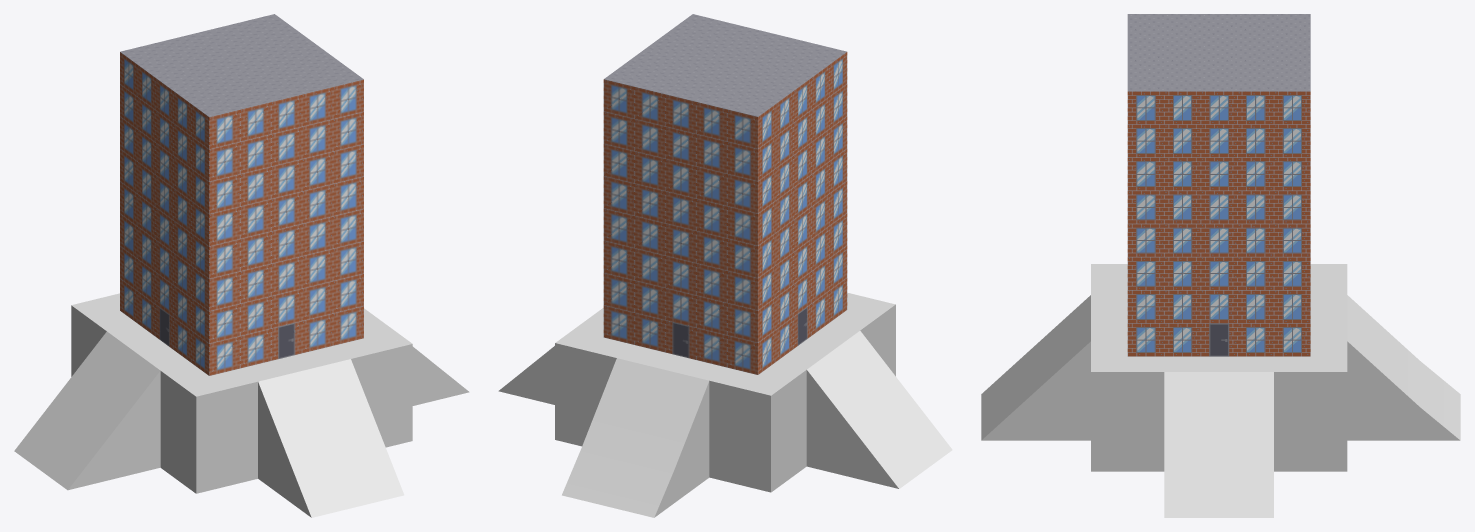
File: House.fbx
3 views of the same model, side by side, from view 1: azimuth 30°, elevation 25°; view 2: azimuth 150°, elevation 25°; view 3: azimuth 270°, elevation 25° (orthographic). The views are drawn at different scales.
Parts seen in each view (by area): view 1: House001, Building_Slops001; view 2: House001, Building_Slops001; view 3: Building_Slops001, House001.
Part boxes in pixels (box(x1,y1,x2,y2)): House001: box(120, 14, 363, 375); Building_Slops001: box(14, 293, 469, 517); House001: box(603, 14, 847, 374); Building_Slops001: box(498, 292, 952, 517); Building_Slops001: box(981, 264, 1460, 517); House001: box(1127, 14, 1310, 356).
Bounding box in the file's own units: 2600 × 2200 × 2620.
